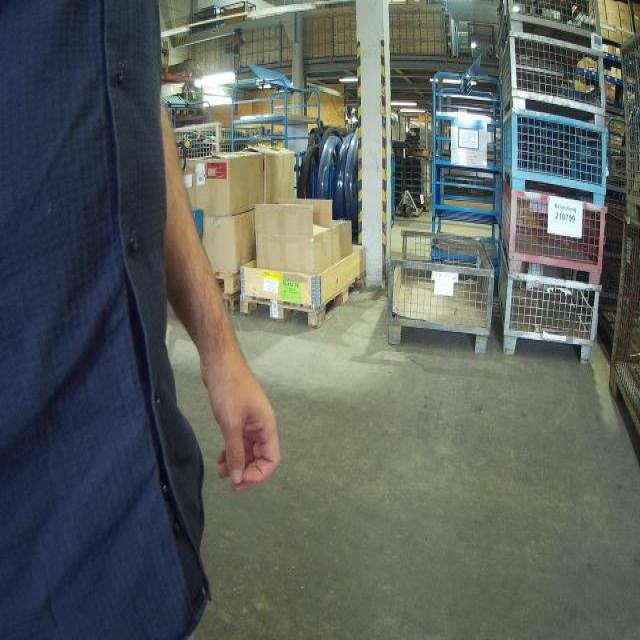pallet: (240, 269, 367, 330), (212, 255, 256, 297)
pallet_truck: (393, 133, 428, 222)
stillage: (385, 224, 498, 357), (495, 246, 597, 364), (494, 182, 604, 285), (493, 30, 607, 127), (496, 106, 610, 203), (605, 210, 639, 468), (493, 3, 605, 50), (174, 123, 257, 169), (622, 33, 638, 222)
